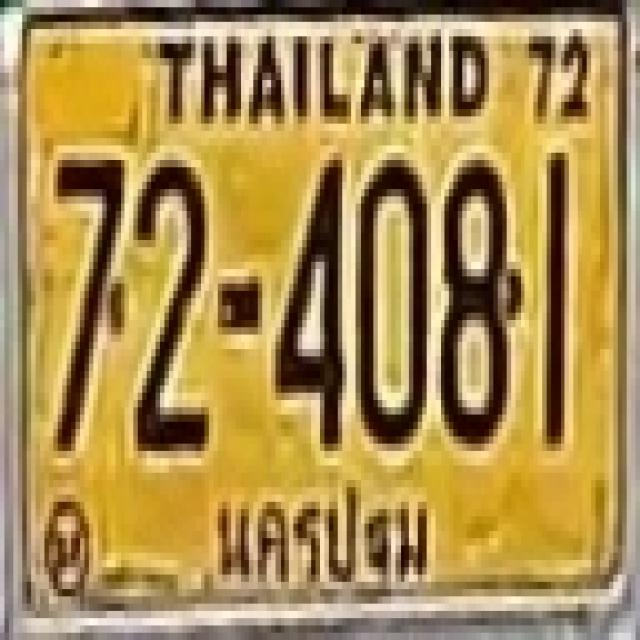0: (354, 153, 424, 436)
1: (542, 152, 564, 444)
2: (133, 156, 204, 448)
4: (271, 152, 342, 444)
7: (53, 152, 120, 444)
8: (438, 153, 513, 436)
NPT: (204, 470, 448, 598)
